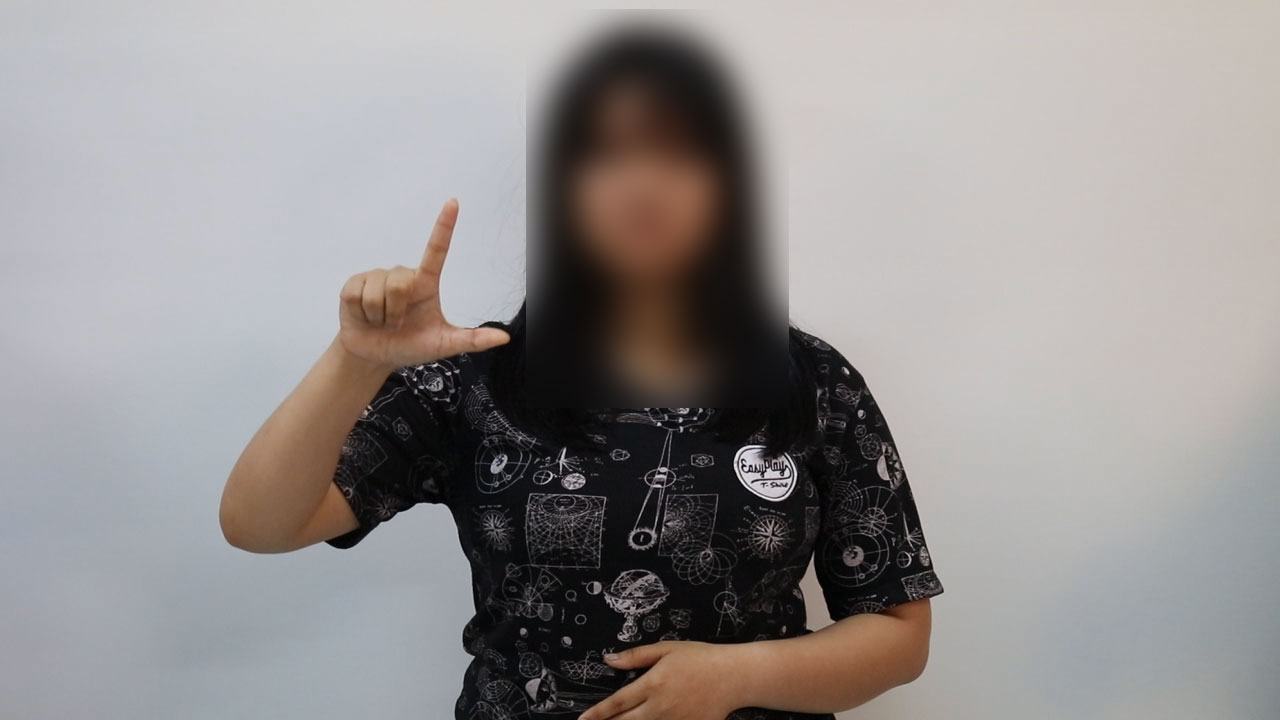lor: (319, 186, 519, 390)
